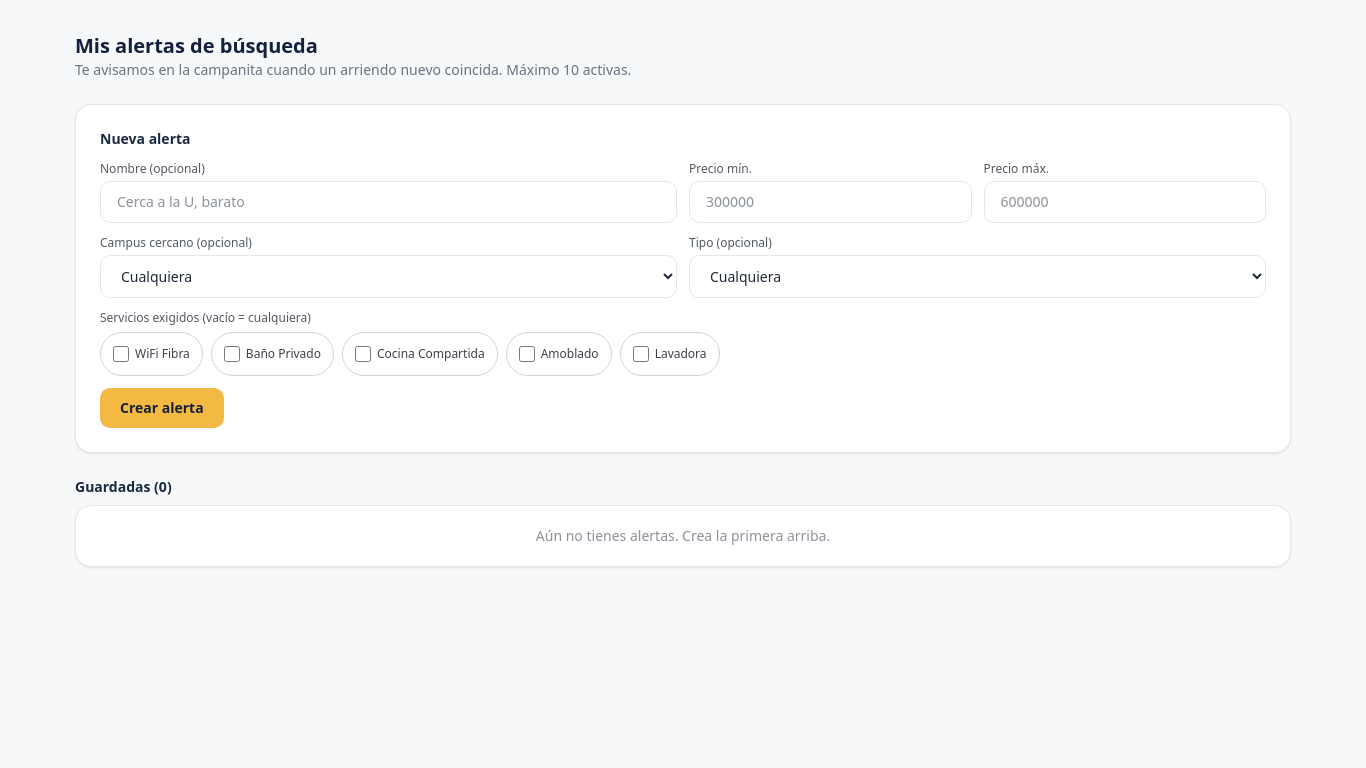
Alertas (Fase 3) › sin ningún filtro bloquea con guía y no postea
Click the button "Crear alerta": (162, 408) [100,388,224,428]
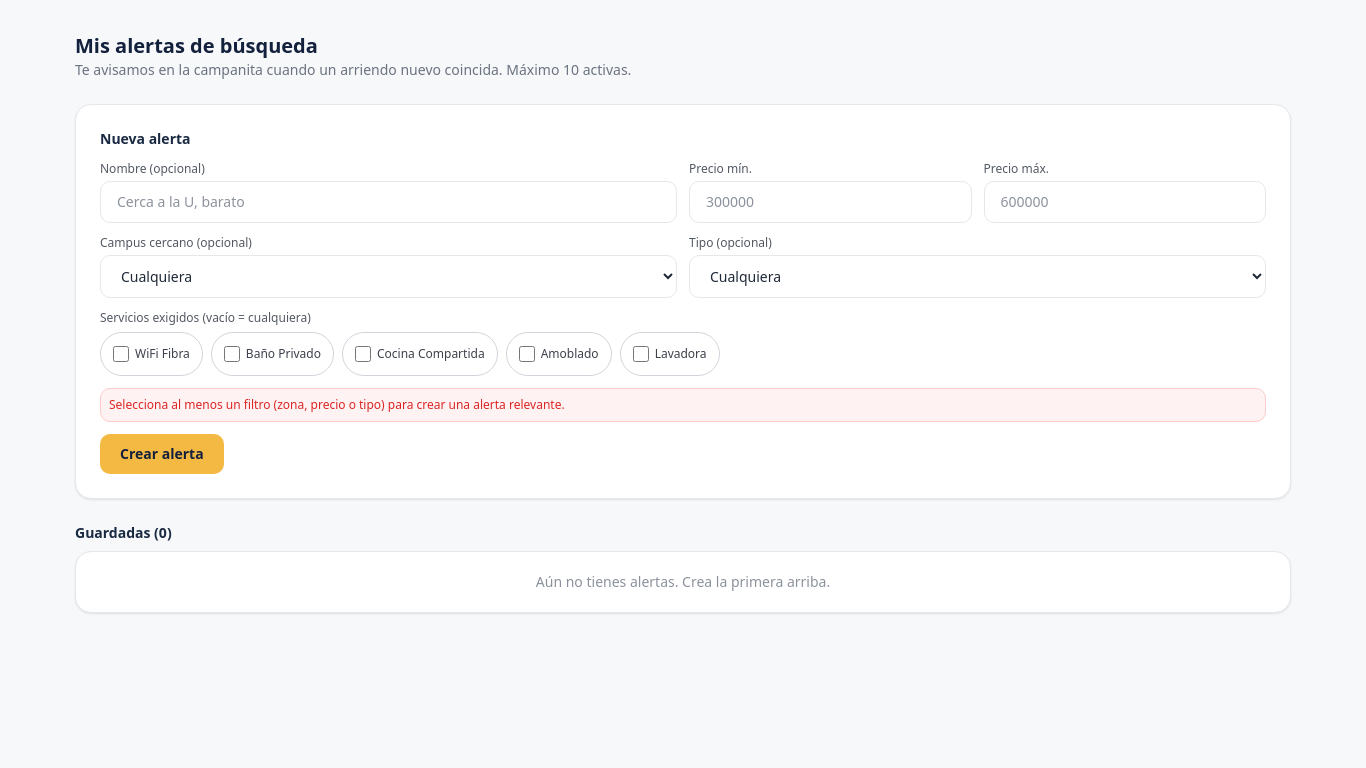
Check: the text "al menos un filtro" is shown, box [109,396,565,413]
